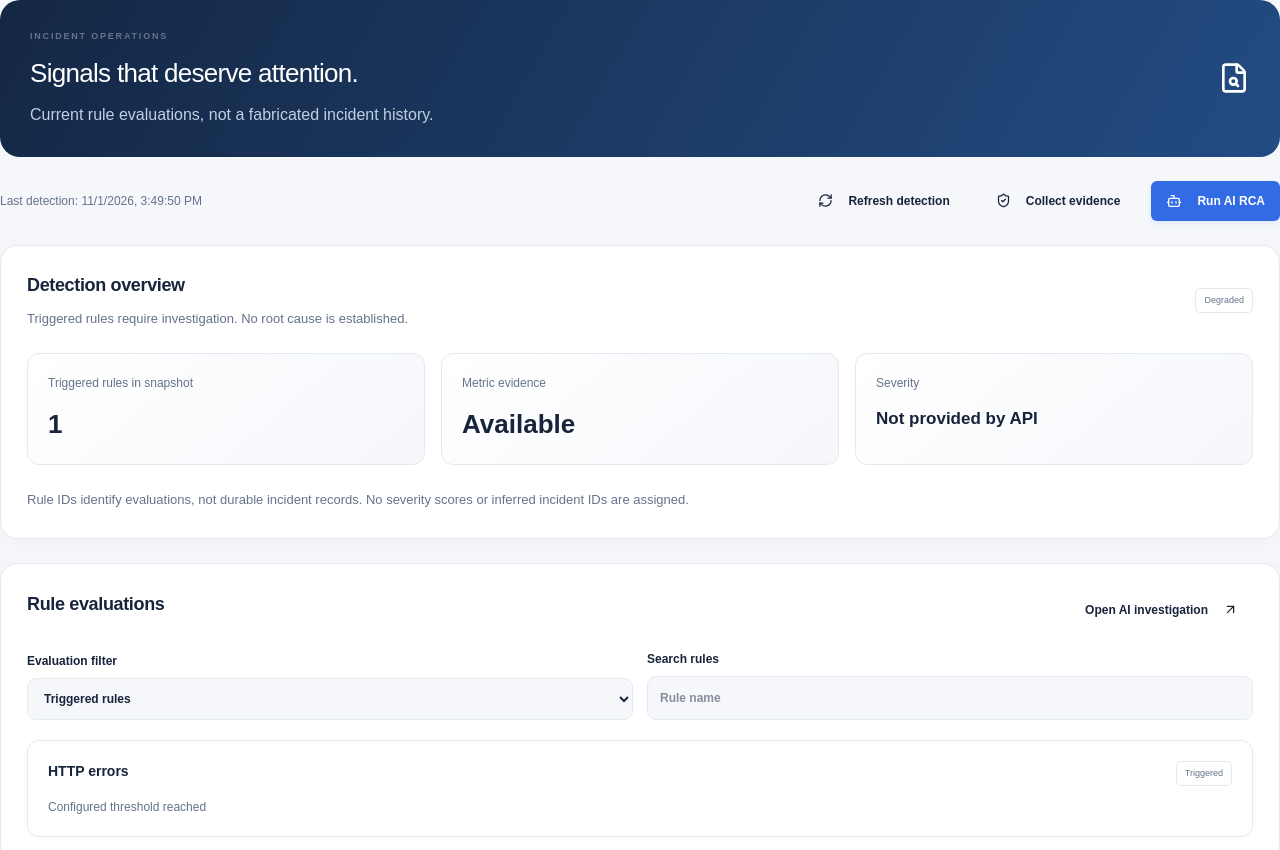
Test: incident investigation › loads actual rule evaluations without inventing severity or incident history
Expected: the button "HTTP errors Triggered Configured threshold reached" is shown, x1=27 y1=740 x2=1253 y2=837
Expected: the text "Not provided by API" is shown, x1=876 y1=410 x2=1038 y2=428
Select "All evaluations" in the dropdown labelled "Evaluation filter" at [330, 699], box x1=27 y1=678 x2=633 y2=720
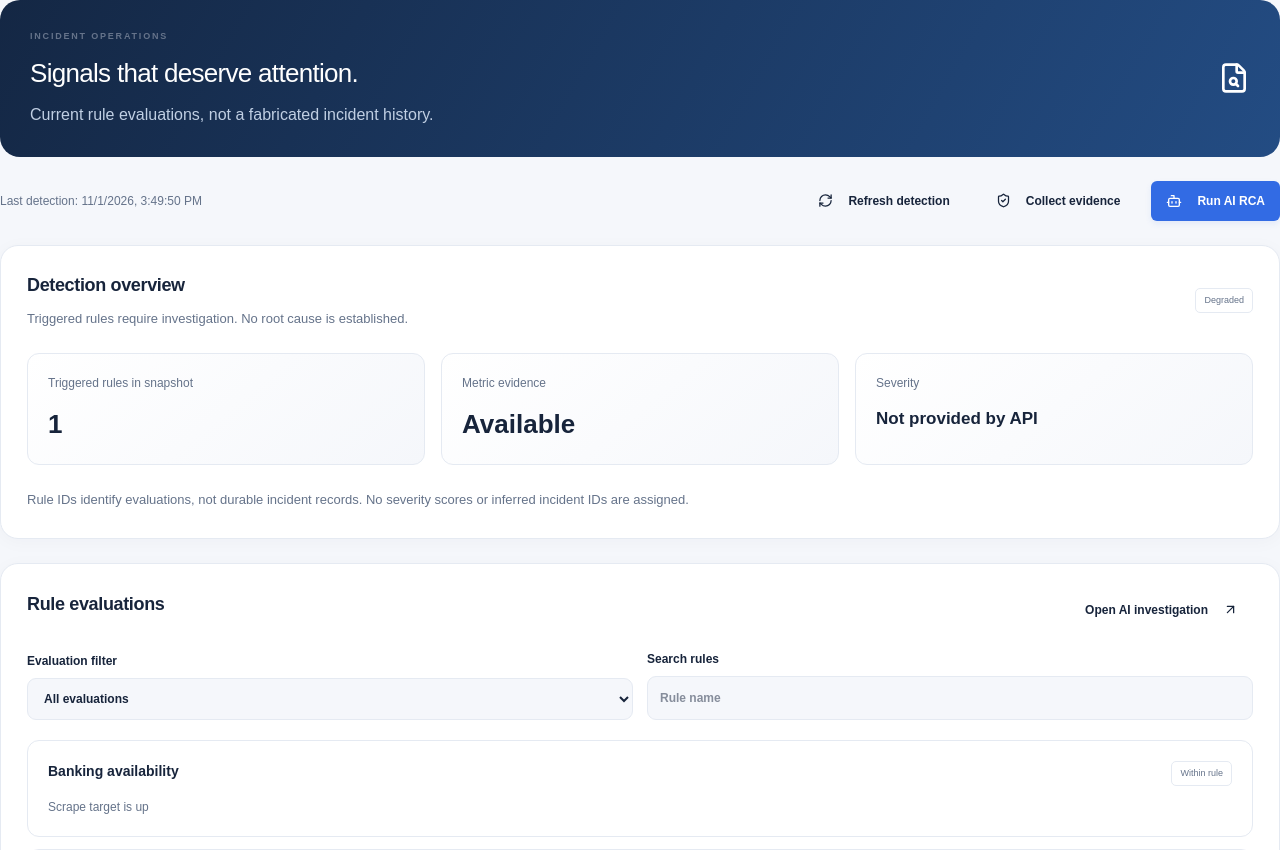
Result: the number of buttons "Banking availability Within rule Scrape target is up" is 3
Type "HTTP" into the field labelled "Search rules" at [950, 698], box x1=647 y1=676 x2=1253 y2=720
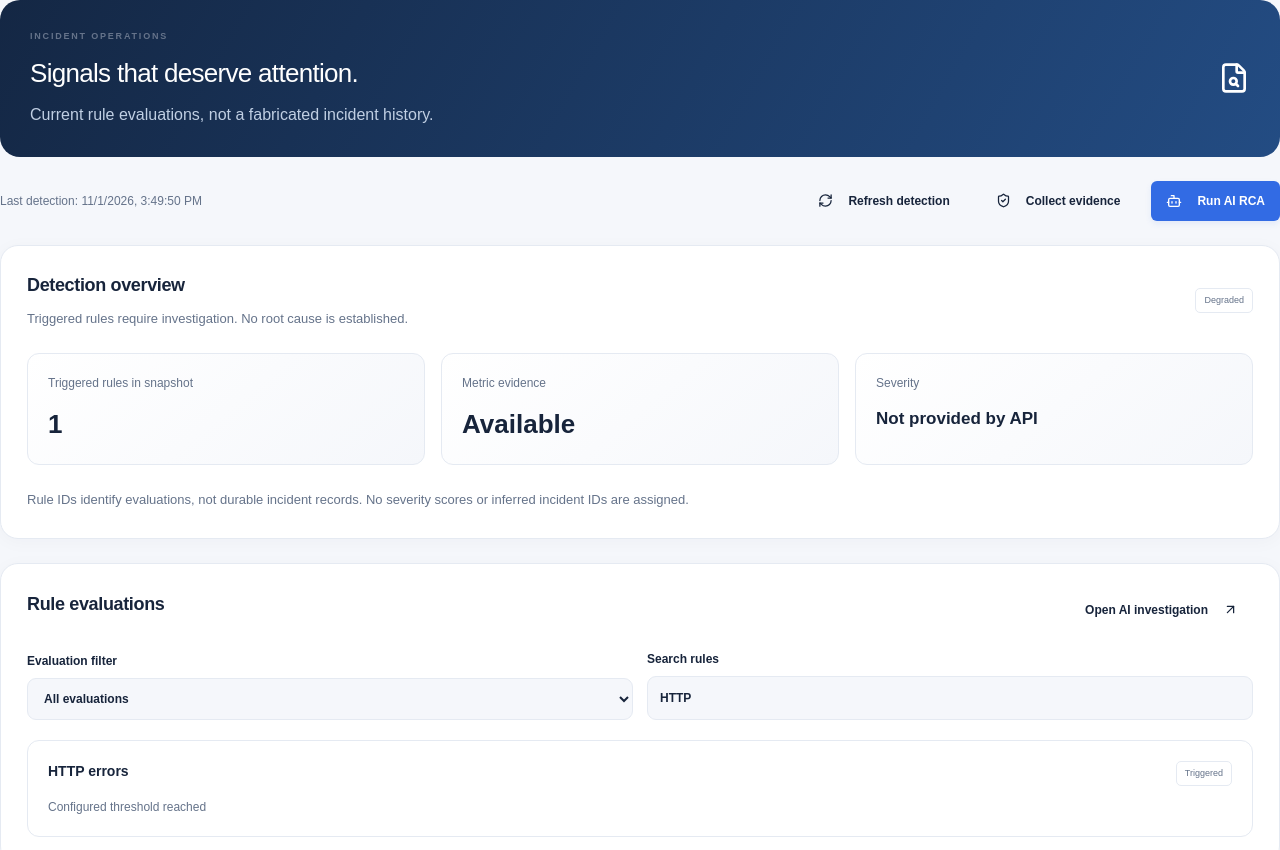
Click the button "HTTP errors Triggered Configured threshold reached" at [88, 771], box x1=27 y1=740 x2=1253 y2=837
(page scrolled)
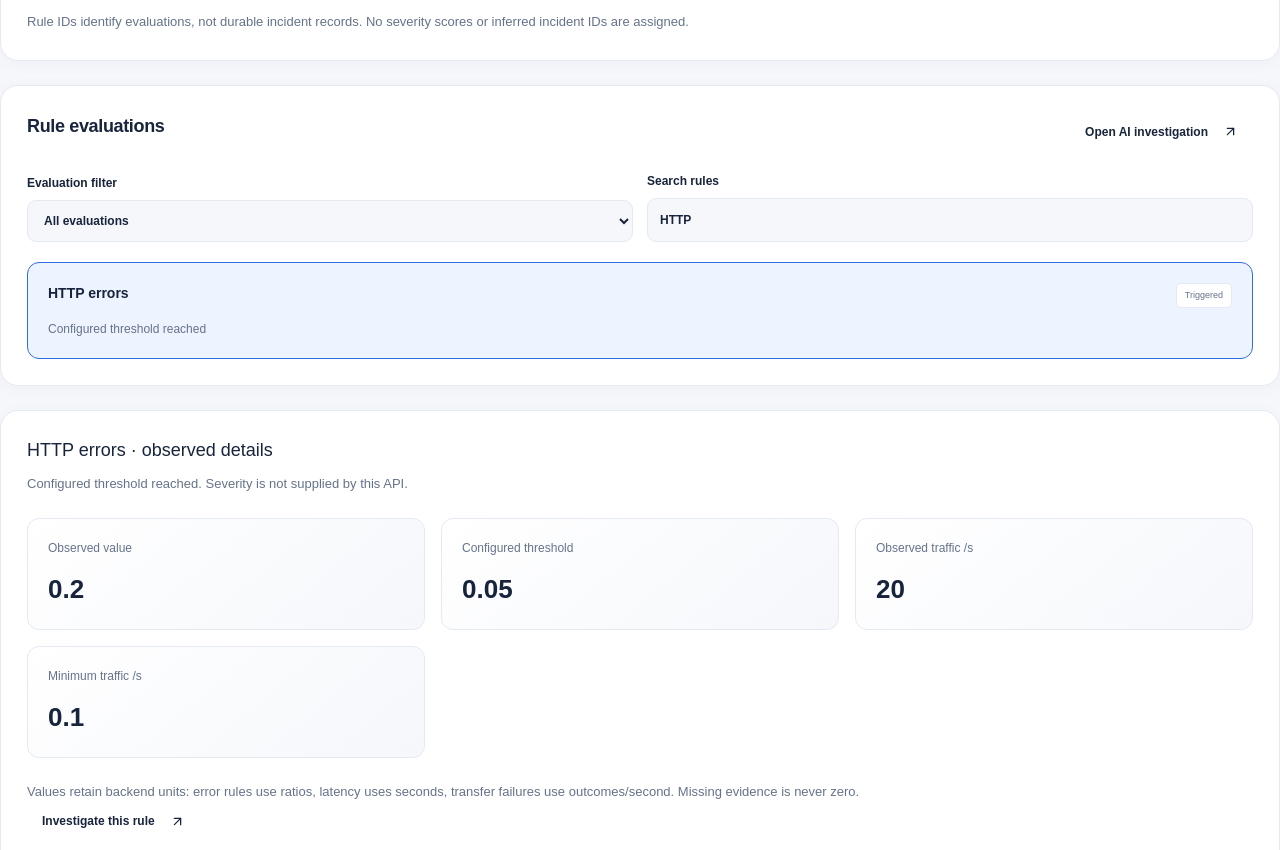
Result: the heading "HTTP errors · observed details" is shown at x1=27 y1=440 x2=273 y2=460
